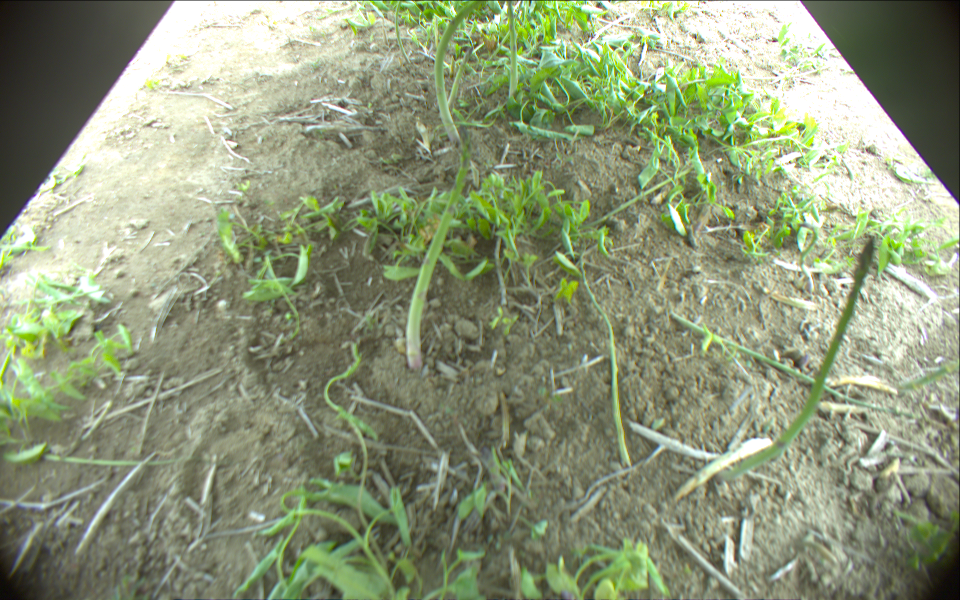aspa: (711, 234, 877, 481), (671, 311, 927, 424), (404, 142, 470, 368), (573, 235, 631, 468), (434, 1, 489, 149), (901, 357, 960, 394), (505, 1, 518, 98), (395, 1, 412, 62)
